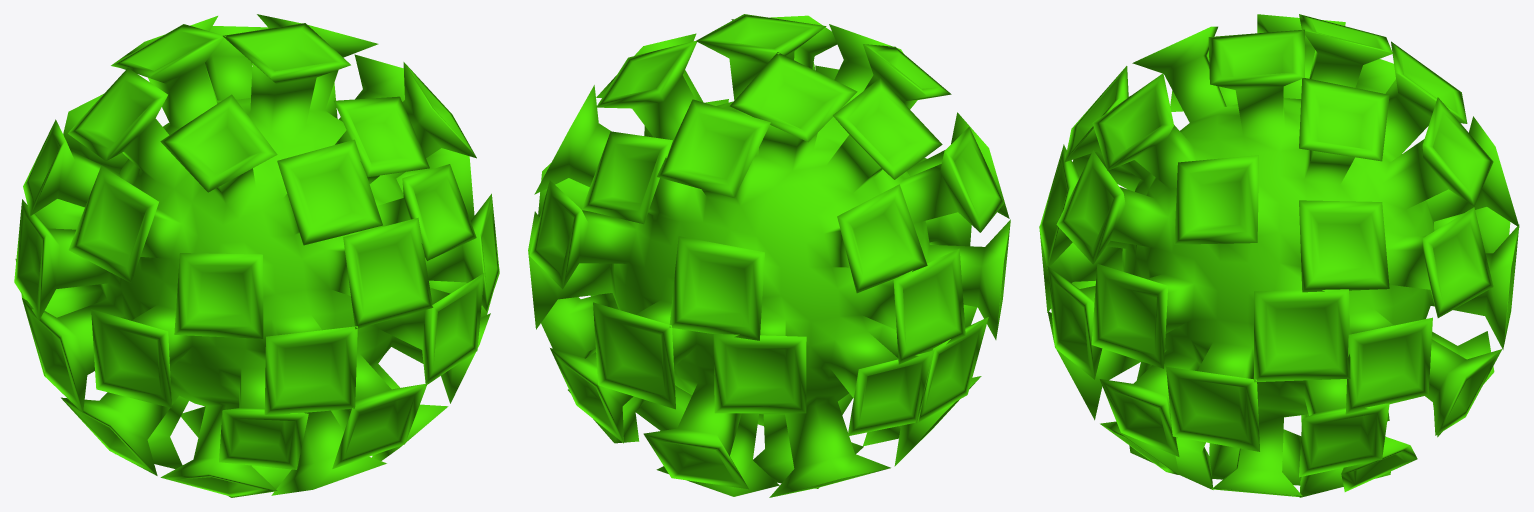
Rendered from uploads_files_3968954_LowPolyBall.fbx.
The picture shows the model from 3 angles, left to right: view 1: azimuth 30°, elevation 25°; view 2: azimuth 150°, elevation 25°; view 3: azimuth 270°, elevation 25°; orthographic projection.
Parts seen in each view (by area): view 1: Cube; view 2: Cube; view 3: Cube.
Part boxes in pixels (x1,y1,x2,y2): Cube: [14, 14, 499, 497]; Cube: [528, 14, 1010, 497]; Cube: [1039, 14, 1519, 497].
Bounding box in the file's own units: 256 × 256 × 256.
